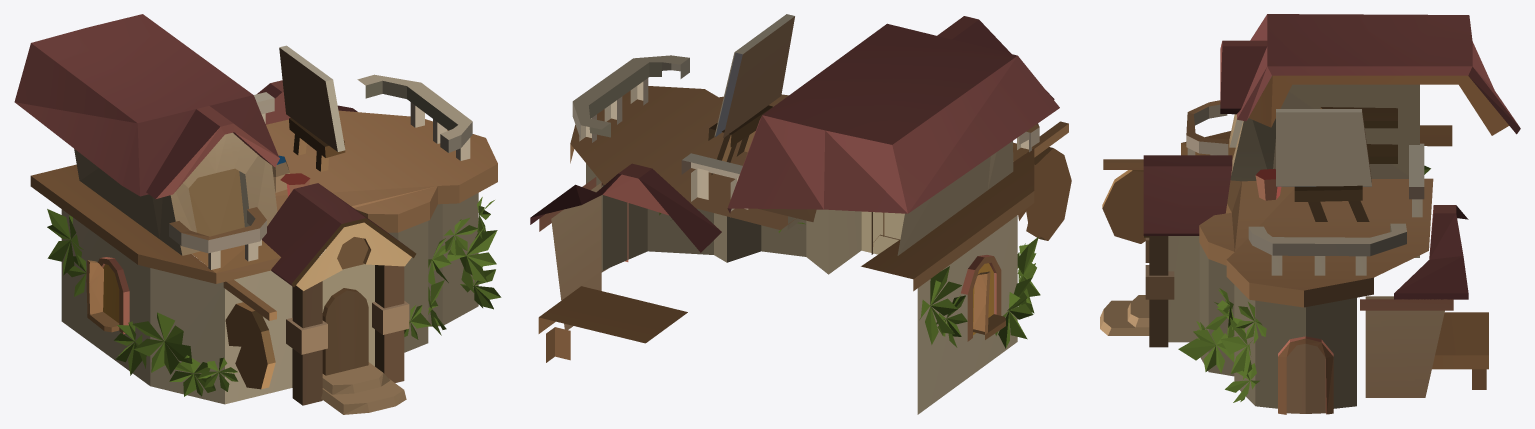
The model's file is building21.fbx.
3 views of the same model, side by side, from view 1: azimuth 30°, elevation 25°; view 2: azimuth 150°, elevation 25°; view 3: azimuth 270°, elevation 25° (orthographic). The views are drawn at different scales.
Parts seen in each view (by area): view 1: building21; view 2: building21; view 3: building21.
Part boxes in pixels (box(x1,y1,x2,y2)): building21: box(14, 14, 501, 414); building21: box(530, 14, 1071, 414); building21: box(1100, 14, 1520, 414).
Bounding box in the file's own units: 2.83 × 1.8 × 2.82.
1 material, 1 textured.
